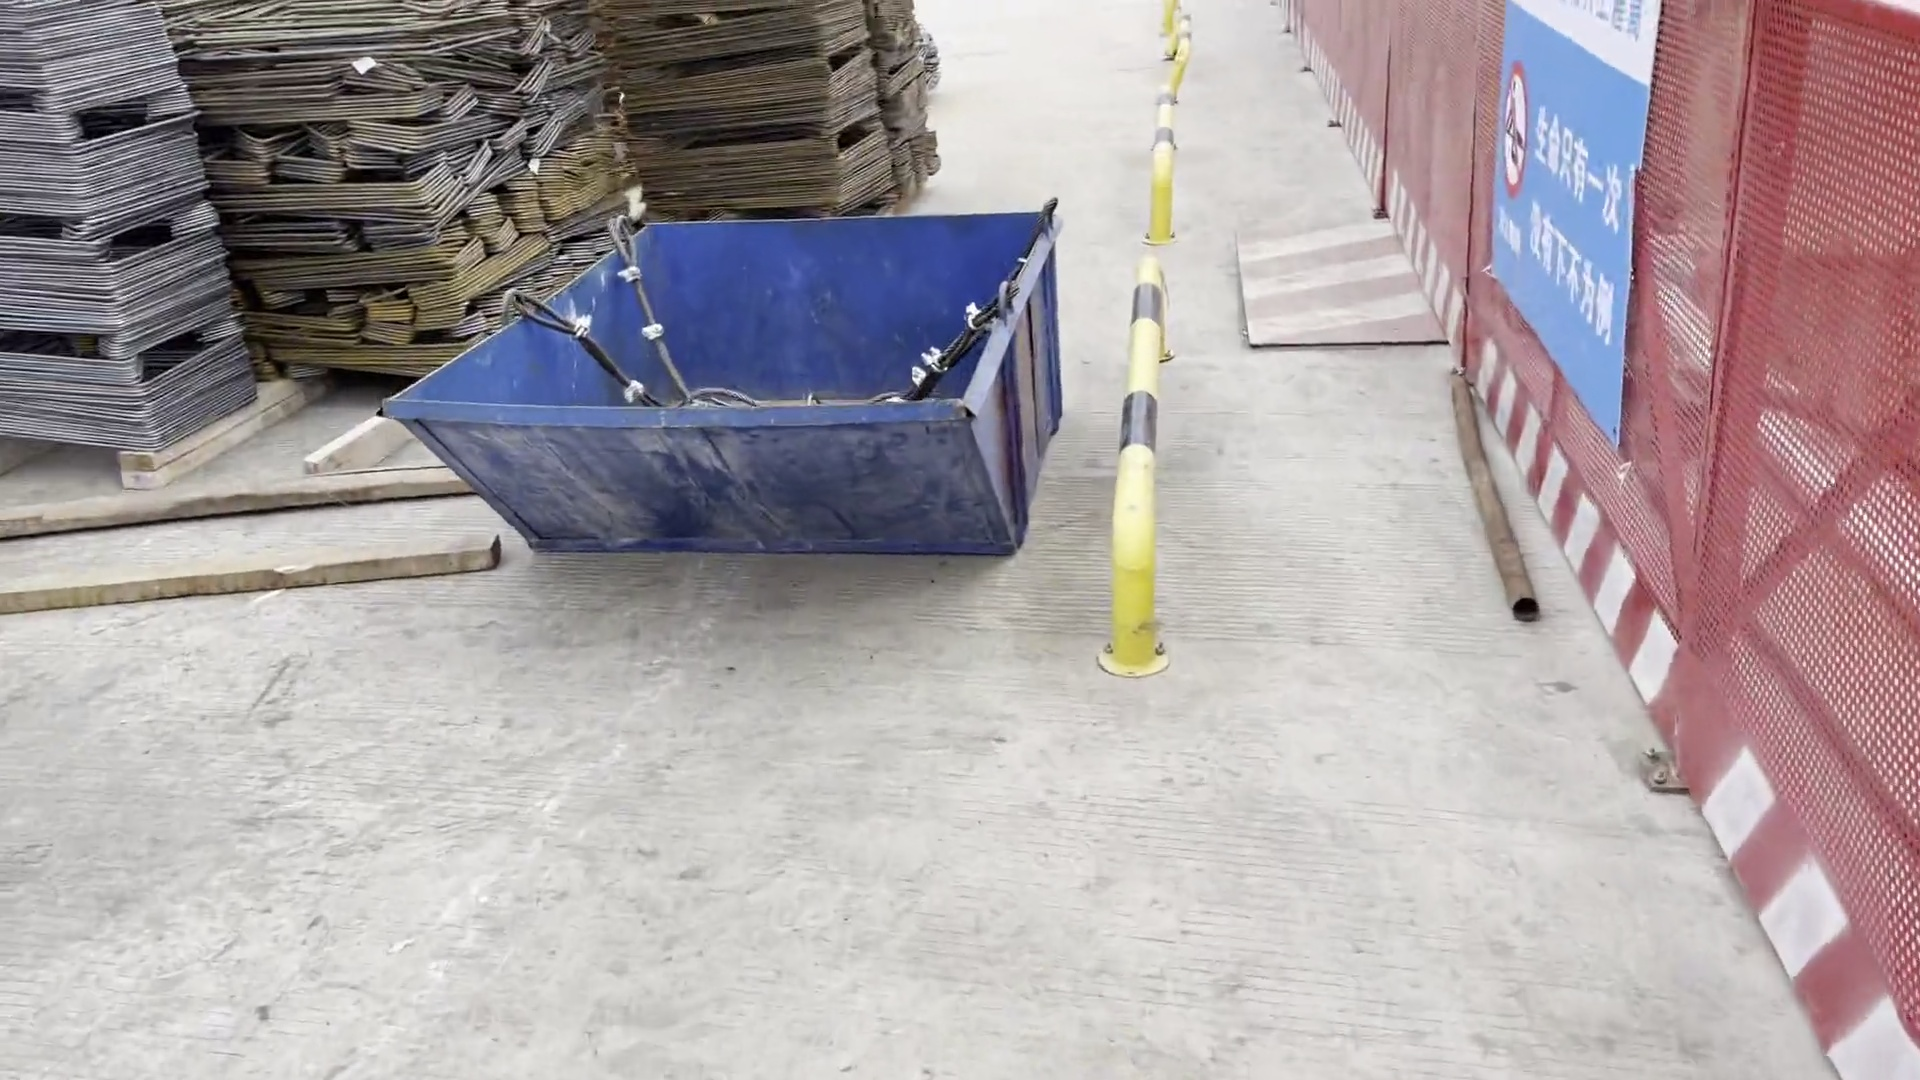fence: (1284, 1, 1920, 1080)
hopper: (365, 208, 1085, 605)
slogan: (1472, 3, 1692, 473)
